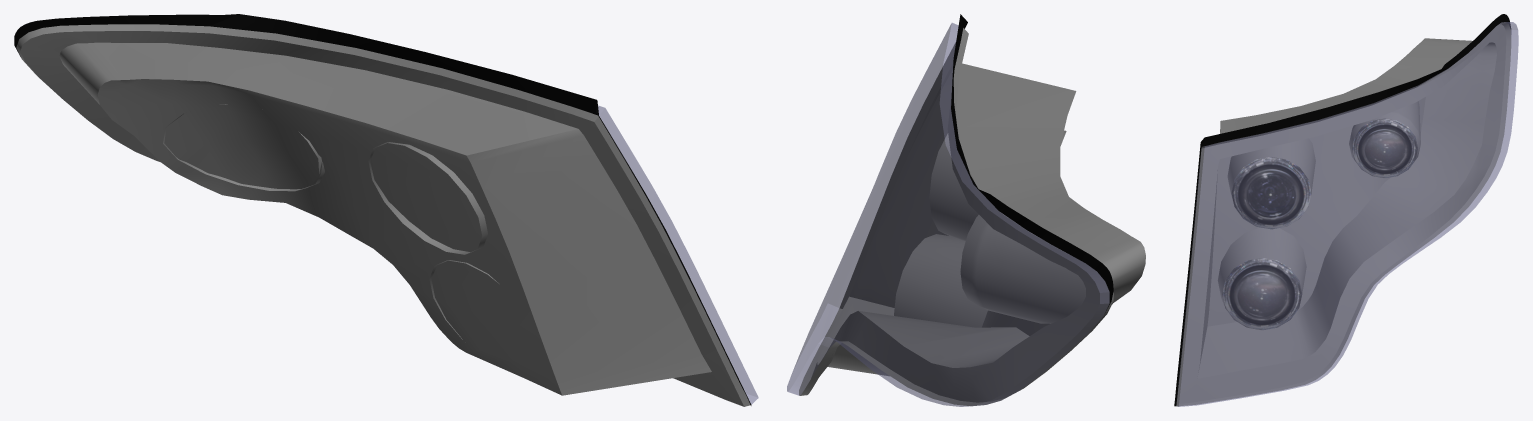
3 views of the same model, side by side, from view 1: azimuth 30°, elevation 25°; view 2: azimuth 150°, elevation 25°; view 3: azimuth 270°, elevation 25° (orthographic). The views are drawn at different scales.
Parts seen in each view (by area): view 1: P740_061B_L_P740_061B_L_4_DaS, P740_061B_L_P740_061B_L_7_D, P740_061B_L_P740_061B_L_6_DTaSI; view 2: P740_061B_L_P740_061B_L_4_DaS, P740_061B_L_P740_061B_L_6_DTaSI, P740_061B_L_P740_061B_L_7_D; view 3: P740_061B_L_P740_061B_L_6_DTaSI, P740_061B_L_P740_061B_L_4_DaS, P740_061B_L_1_N_P740_061B_L, P740_061B_L_P740_061B_L_2_N, P740_061B_L_P740_061B_L_7_D, P740_061B_L_P740_061B_L_3_N.
Boxes of the visible parts, x1,y1,x2,y2 form: P740_061B_L_P740_061B_L_4_DaS: (16, 24, 750, 406); P740_061B_L_P740_061B_L_7_D: (14, 14, 751, 405); P740_061B_L_P740_061B_L_6_DTaSI: (598, 105, 758, 404); P740_061B_L_P740_061B_L_4_DaS: (799, 28, 1145, 406); P740_061B_L_P740_061B_L_6_DTaSI: (787, 23, 1109, 406); P740_061B_L_P740_061B_L_7_D: (951, 14, 1113, 312); P740_061B_L_P740_061B_L_6_DTaSI: (1176, 22, 1518, 406); P740_061B_L_P740_061B_L_4_DaS: (1176, 22, 1511, 406); P740_061B_L_1_N_P740_061B_L: (1222, 258, 1302, 330); P740_061B_L_P740_061B_L_2_N: (1231, 157, 1311, 229); P740_061B_L_P740_061B_L_7_D: (1174, 14, 1510, 406); P740_061B_L_P740_061B_L_3_N: (1352, 118, 1417, 178).
Bounding box in the file's own units: 41.69 × 26.23 × 35.45.
